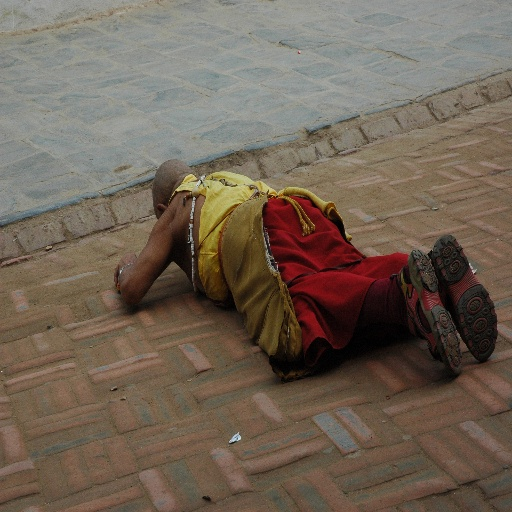hand: (111, 248, 139, 288)
